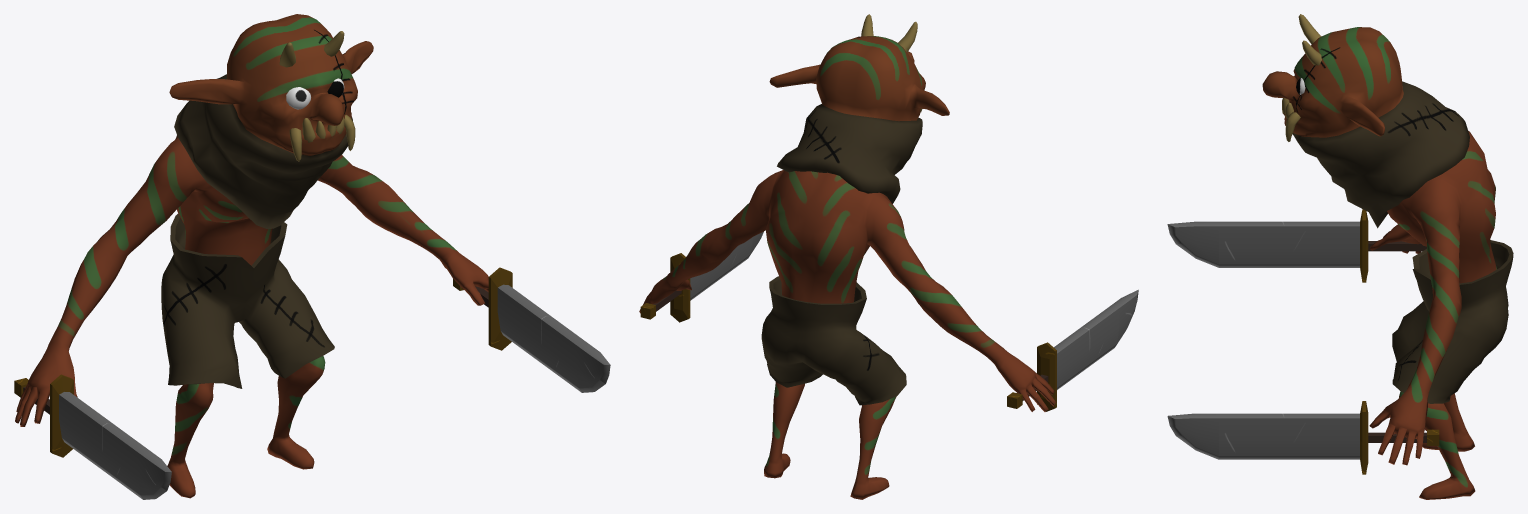
File: CH_MeleeGoblin.fbx
The picture shows the model from 3 angles, left to right: view 1: azimuth 30°, elevation 25°; view 2: azimuth 150°, elevation 25°; view 3: azimuth 270°, elevation 25°; orthographic projection. The views are drawn at different scales.
Parts seen in each view (by area): view 1: CH_MeleeGoblin, CH_Body, SM_MeleeSwordRight, SM_MeleeSwordLeft; view 2: CH_MeleeGoblin, CH_Body, SM_MeleeSwordRight, SM_MeleeSwordLeft; view 3: CH_MeleeGoblin, CH_Body, SM_MeleeSwordLeft, SM_MeleeSwordRight.
Part boxes in pixels (x1=…): CH_MeleeGoblin: x1=161, y1=14, x2=373, y2=388; CH_Body: x1=15, y1=135, x2=488, y2=498; SM_MeleeSwordRight: x1=14, y1=374, x2=171, y2=499; SM_MeleeSwordLeft: x1=453, y1=267, x2=610, y2=392; CH_MeleeGoblin: x1=761, y1=14, x2=949, y2=405; CH_Body: x1=639, y1=170, x2=1056, y2=499; SM_MeleeSwordRight: x1=1007, y1=289, x2=1138, y2=411; SM_MeleeSwordLeft: x1=640, y1=231, x2=763, y2=322; CH_MeleeGoblin: x1=1262, y1=14, x2=1513, y2=403; CH_Body: x1=1369, y1=131, x2=1496, y2=499; SM_MeleeSwordLeft: x1=1167, y1=401, x2=1439, y2=474; SM_MeleeSwordRight: x1=1167, y1=209, x2=1426, y2=282.
Size of the model in its own units: 3.36 by 3.25 by 2.29.
